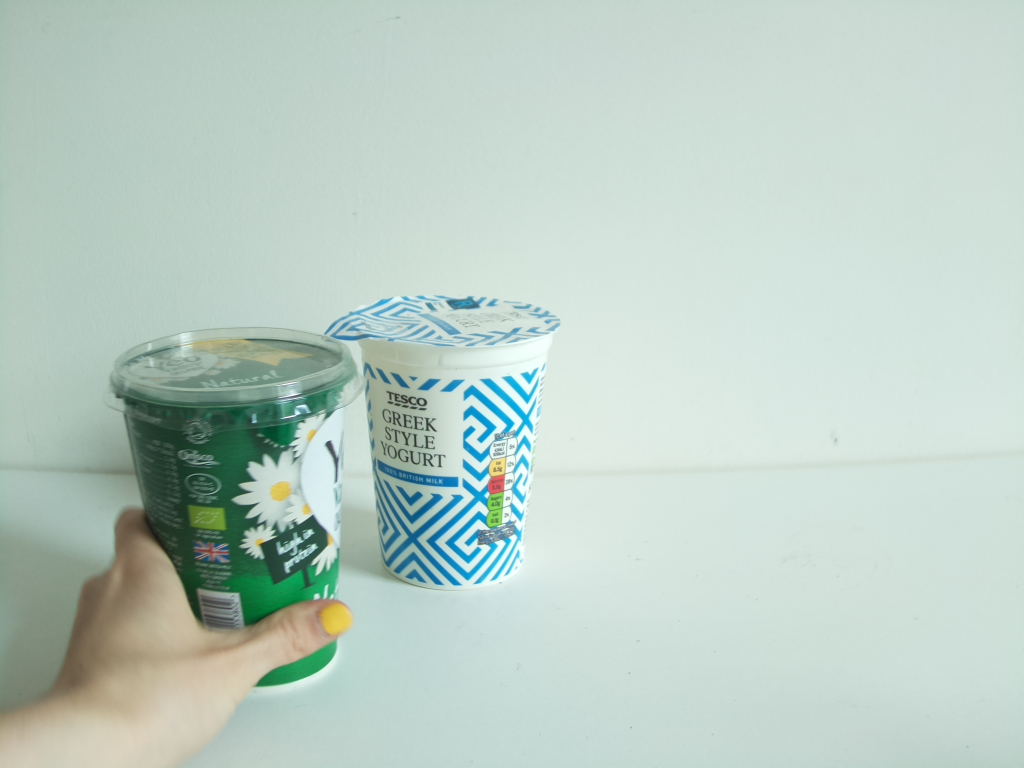yogurt: (96, 326, 363, 696), (317, 287, 566, 594)
